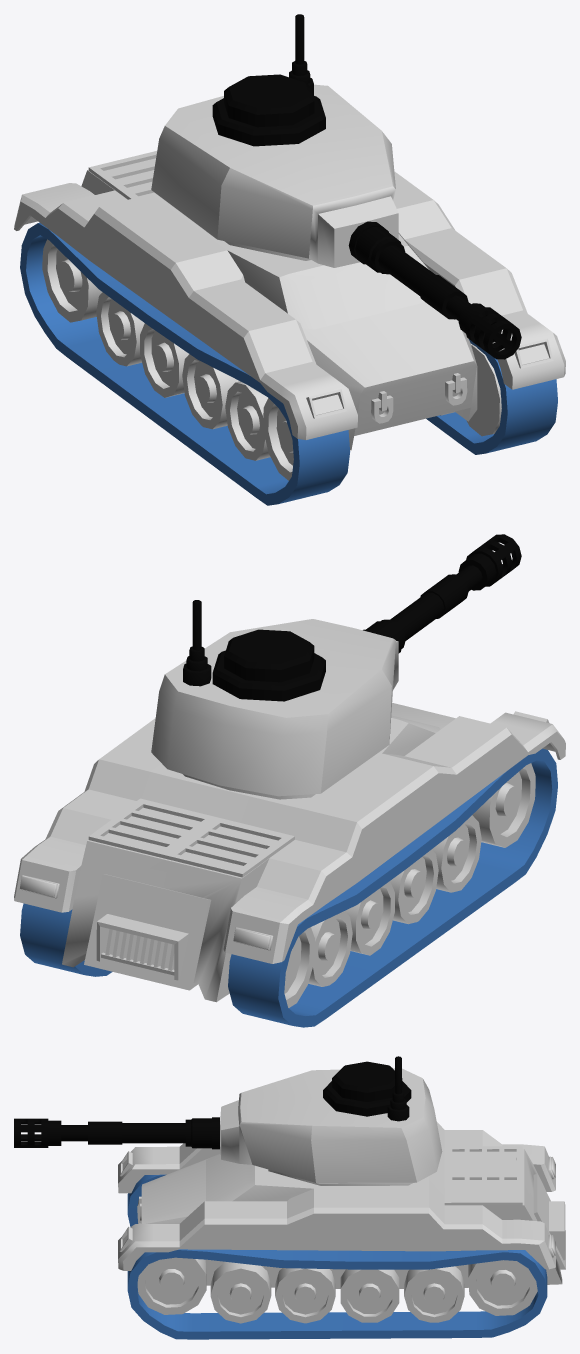
Rendered from TANKK 1.fbx.
3 views of the same model, one above another, from view 1: azimuth 30°, elevation 25°; view 2: azimuth 150°, elevation 25°; view 3: azimuth 270°, elevation 25° (orthographic). The views are drawn at different scales.
Visible parts, largest first — view 1: Cube, Cube.002, Cube.001, Cylinder.002, Cylinder.010, Cylinder.001, Cylinder.006, Cylinder.009, Cylinder.007; view 2: Cube, Cube.002, Cube.001, Cylinder.002, Cylinder.006, Cylinder.001, Cylinder.007, Cylinder.009, Cylinder.010; view 3: Cube, Cube.002, Cube.001, Cylinder.002, Cylinder.010, Cylinder.006, Cylinder.007, Cylinder.001, Cylinder.009.
Boxes of the visible parts, left/top/right/bottom form: Cube: left=14, top=151, right=565, bottom=450; Cube.002: left=151, top=14, right=521, bottom=359; Cube.001: left=20, top=222, right=557, bottom=505; Cylinder.002: left=263, top=344, right=501, bottom=480; Cylinder.010: left=42, top=239, right=102, bottom=322; Cylinder.001: left=182, top=354, right=239, bottom=429; Cylinder.006: left=225, top=344, right=471, bottom=460; Cylinder.009: left=140, top=323, right=188, bottom=397; Cylinder.007: left=96, top=292, right=144, bottom=366; Cube: left=14, top=702, right=565, bottom=1002; Cube.002: left=151, top=534, right=521, bottom=799; Cube.001: left=20, top=748, right=557, bottom=1027; Cylinder.002: left=472, top=763, right=535, bottom=847; Cylinder.006: left=432, top=815, right=481, bottom=892; Cylinder.001: left=390, top=849, right=438, bottom=924; Cylinder.007: left=308, top=911, right=352, bottom=986; Cylinder.009: left=345, top=881, right=394, bottom=955; Cylinder.010: left=84, top=927, right=314, bottom=1007; Cube: left=118, top=1121, right=565, bottom=1288; Cube.002: left=14, top=1056, right=442, bottom=1185; Cube.001: left=127, top=1174, right=547, bottom=1339; Cylinder.002: left=137, top=1200, right=206, bottom=1314; Cylinder.010: left=468, top=1260, right=537, bottom=1315; Cylinder.006: left=210, top=1261, right=271, bottom=1323; Cylinder.007: left=404, top=1266, right=464, bottom=1322; Cylinder.001: left=275, top=1268, right=335, bottom=1323; Cylinder.009: left=340, top=1269, right=399, bottom=1322.
Size of the model in its own units: 292 by 351 by 693.
